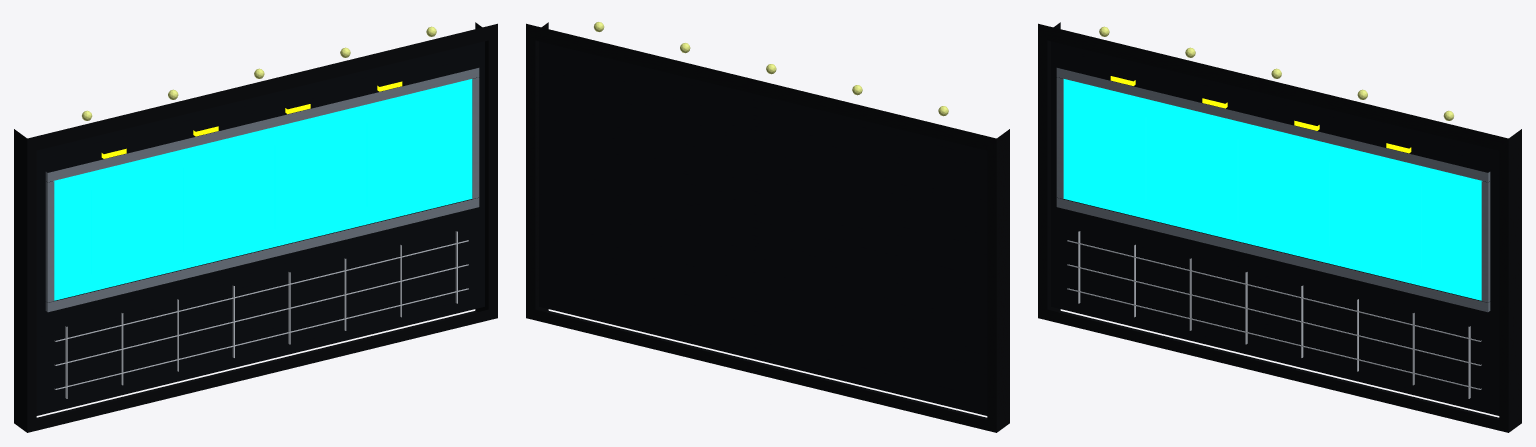
The model's file is v2_rally_backdrop.glb.
3 views of the same model, side by side, from view 1: azimuth 30°, elevation 25°; view 2: azimuth 150°, elevation 25°; view 3: azimuth 330°, elevation 25° (orthographic).
Parts seen in each view (by area): view 1: Wall_Core, Screen_Band, Wall_Frame, Score_Cells, Screen_Bezel, Net_Relief, Score_LEDs; view 2: Wall_Core, Wall_Frame; view 3: Wall_Core, Screen_Band, Wall_Frame, Score_Cells, Screen_Bezel, Net_Relief, Score_LEDs.
Boxes of the visible parts, x1,y1,x2,y2 form: Wall_Core: (36, 41, 484, 415); Screen_Band: (53, 79, 472, 300); Wall_Frame: (14, 22, 497, 432); Score_Cells: (91, 112, 413, 274); Screen_Bezel: (45, 68, 479, 312); Net_Relief: (54, 231, 468, 398); Score_LEDs: (101, 81, 402, 158); Wall_Core: (539, 41, 987, 415); Wall_Frame: (526, 22, 1009, 432); Wall_Core: (1051, 41, 1499, 415); Screen_Band: (1063, 79, 1482, 300); Wall_Frame: (1038, 22, 1521, 432); Score_Cells: (1099, 106, 1421, 268); Screen_Bezel: (1056, 68, 1490, 312); Net_Relief: (1067, 231, 1481, 398); Score_LEDs: (1110, 76, 1411, 153).
Size of what is drawn, in the model's own units: 4.1 by 2.53 by 0.23.
7 materials, 4 textured.
